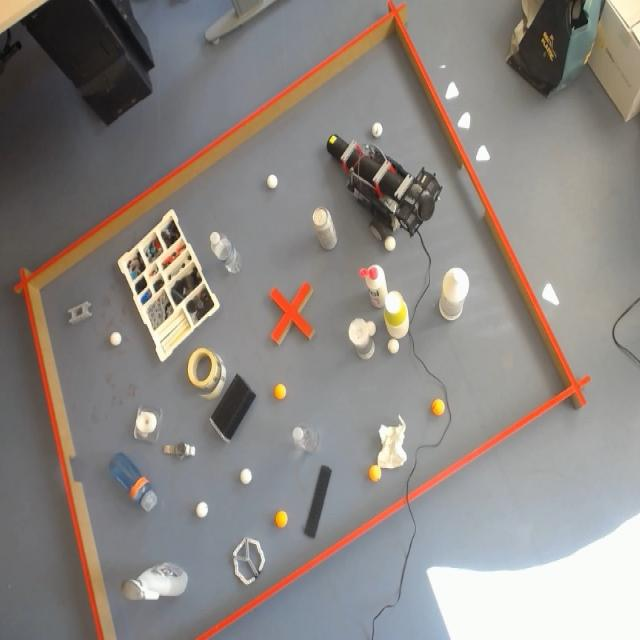orange: (430, 398, 448, 418), (274, 510, 288, 529), (368, 465, 382, 482), (275, 384, 286, 399)
robot: (326, 135, 443, 243)
robot-front: (327, 135, 347, 160)
white: (387, 338, 399, 355), (372, 121, 383, 138), (240, 469, 252, 484), (197, 502, 208, 518), (384, 236, 396, 250), (110, 332, 122, 345), (266, 175, 278, 188)
